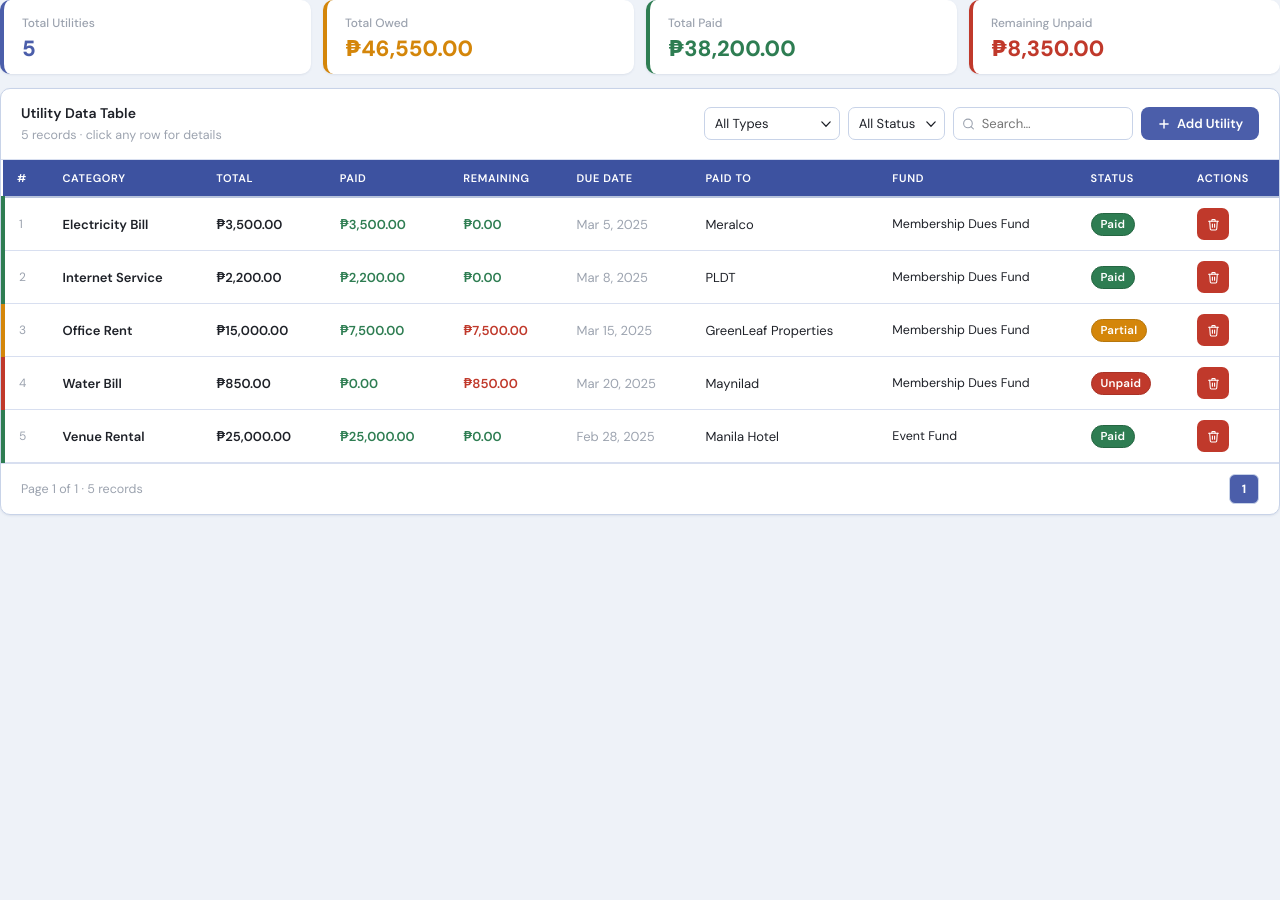
Test: edit/save flows › Utilities: filters narrow the table and a delete removes the row with a confirmation message
Select "Unpaid" in the 2nd dropdown at [896, 124], box [848,107,945,140]
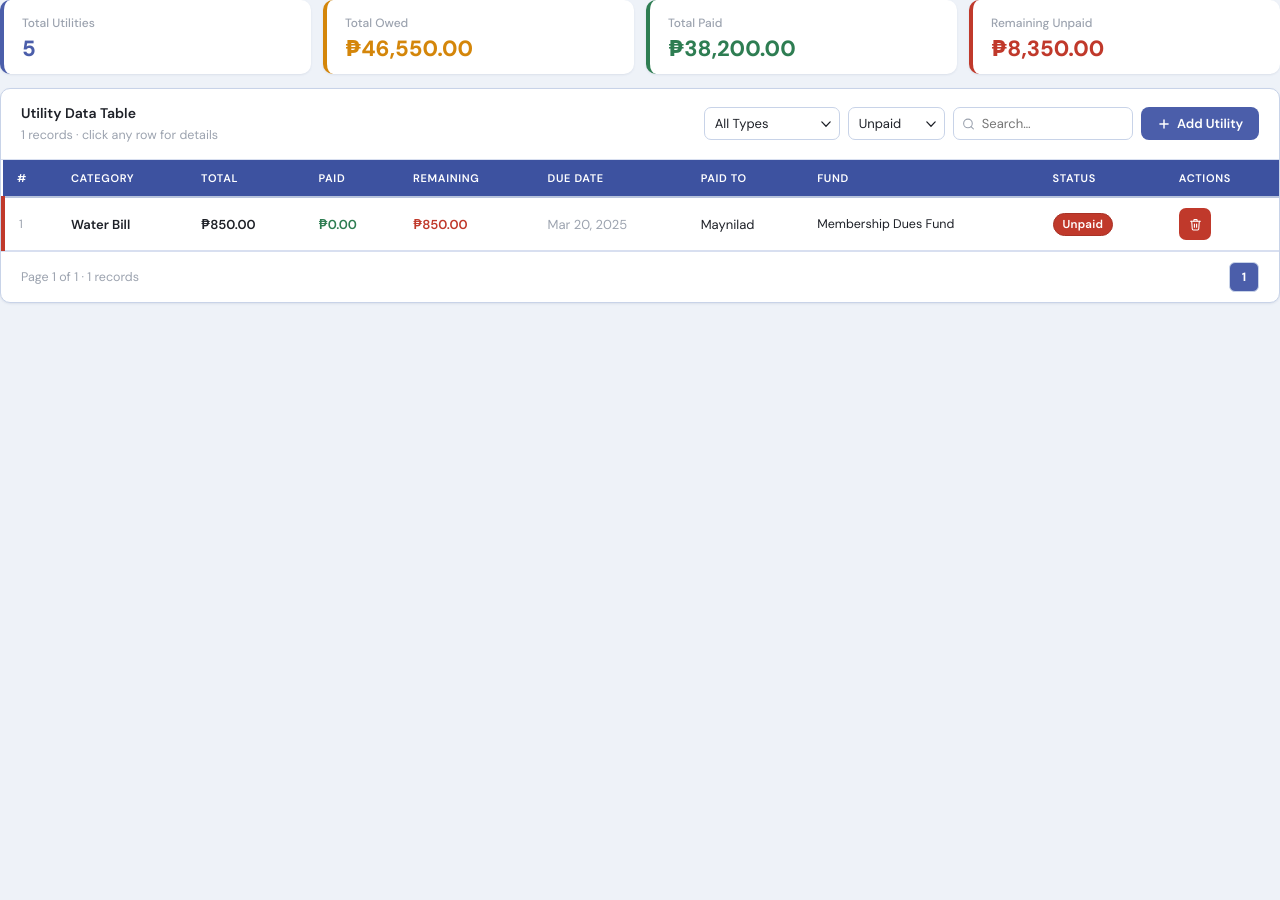
Check: the text "Water Bill" is shown, box [57,197,187,251]
Click the button titled "Delete".
click(1195, 224)  # box [1179,208,1211,240]
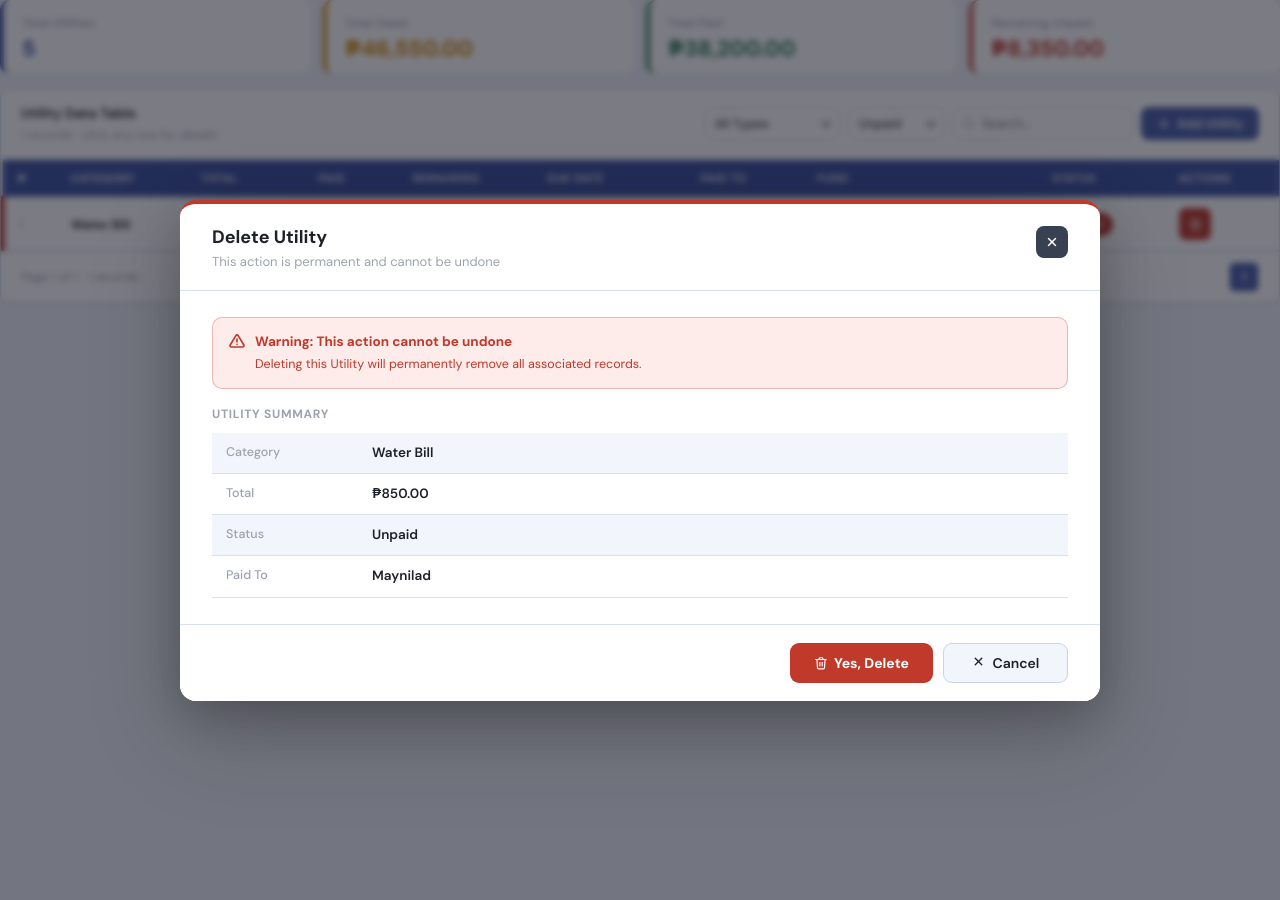
Click the button "Yes, Delete".
click(861, 662)  # box [790,642,933,682]
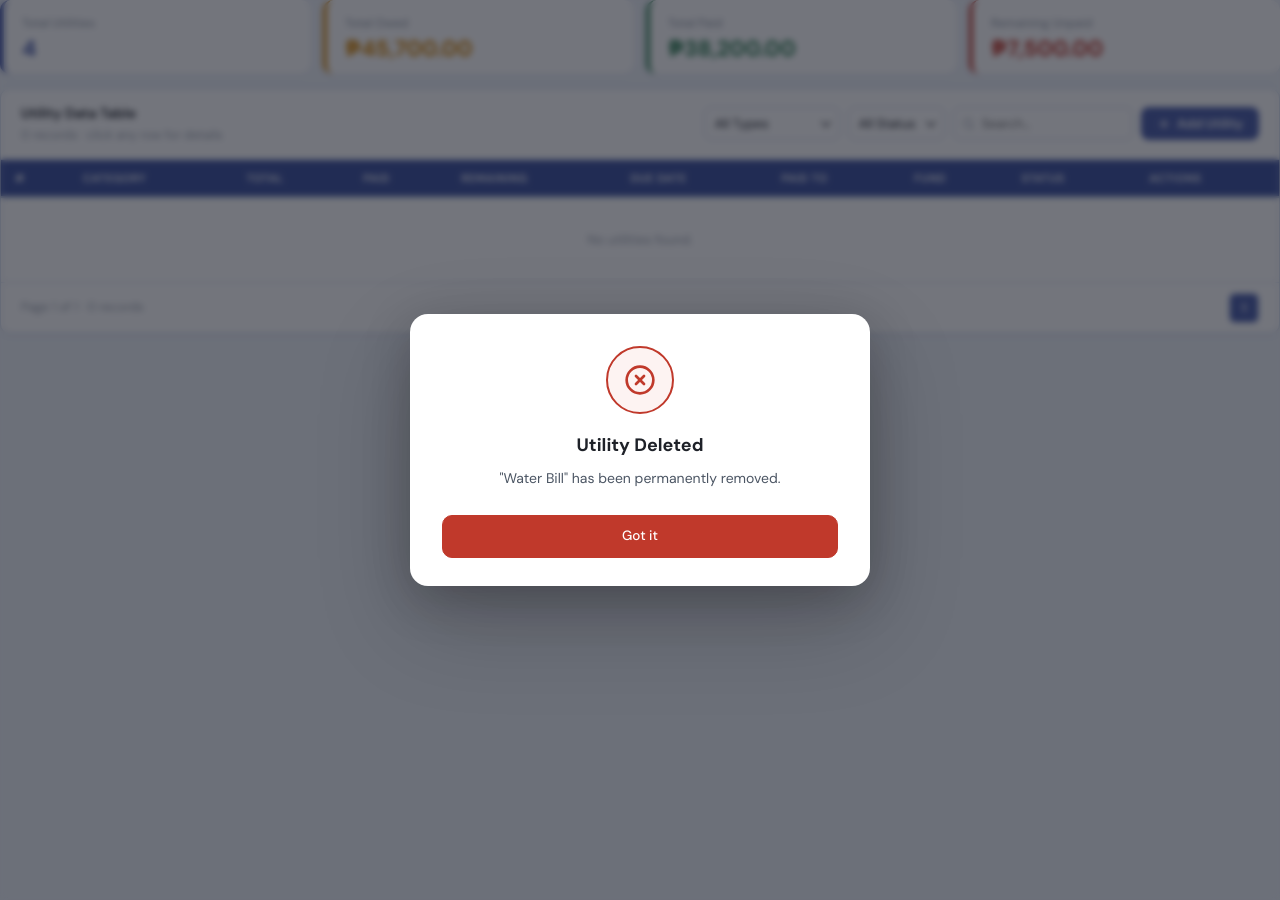
Check: the text "\"Water Bill\" has been permanently removed." is shown, box [499,469,781,487]
Check: the text "No utilities found." is shown, box [1,197,1279,282]
